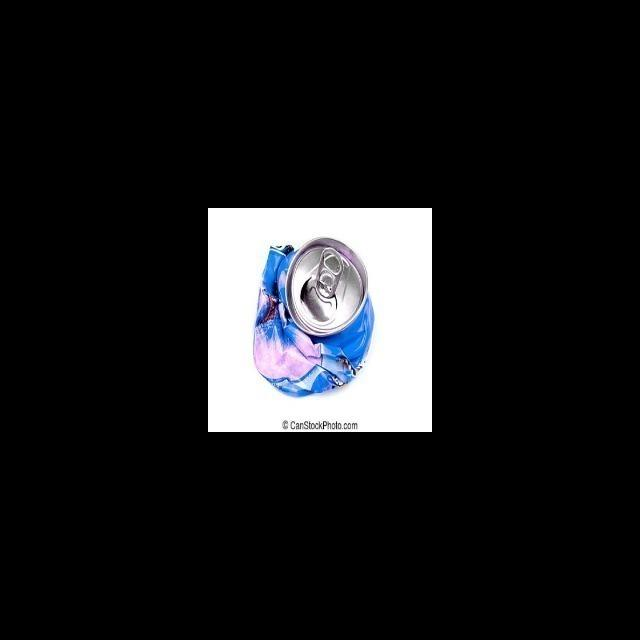metal: (248, 233, 376, 400)
